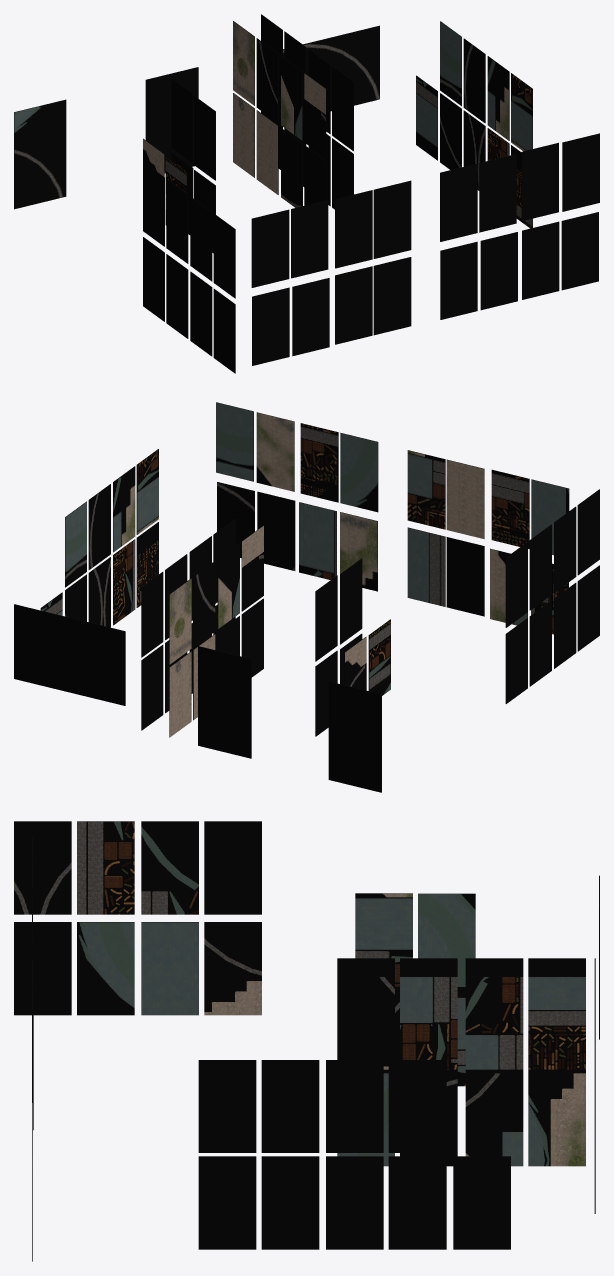
The model's file is MeshBaker (1)-mesh-mesh.fbx.
3 views of the same model, one above another, from view 1: azimuth 30°, elevation 25°; view 2: azimuth 150°, elevation 25°; view 3: azimuth 270°, elevation 25° (orthographic). The views are drawn at different scales.
Parts seen in each view (by area): view 1: MeshBaker__1__mesh_mesh; view 2: MeshBaker__1__mesh_mesh; view 3: MeshBaker__1__mesh_mesh.
Boxes of the visible parts, left/top/right/bottom form: MeshBaker__1__mesh_mesh: left=14, top=14, right=599, bottom=373; MeshBaker__1__mesh_mesh: left=14, top=402, right=599, bottom=792; MeshBaker__1__mesh_mesh: left=14, top=821, right=599, bottom=1261.
Bounding box in the file's own units: 6.83 × 2.59 × 6.9.
